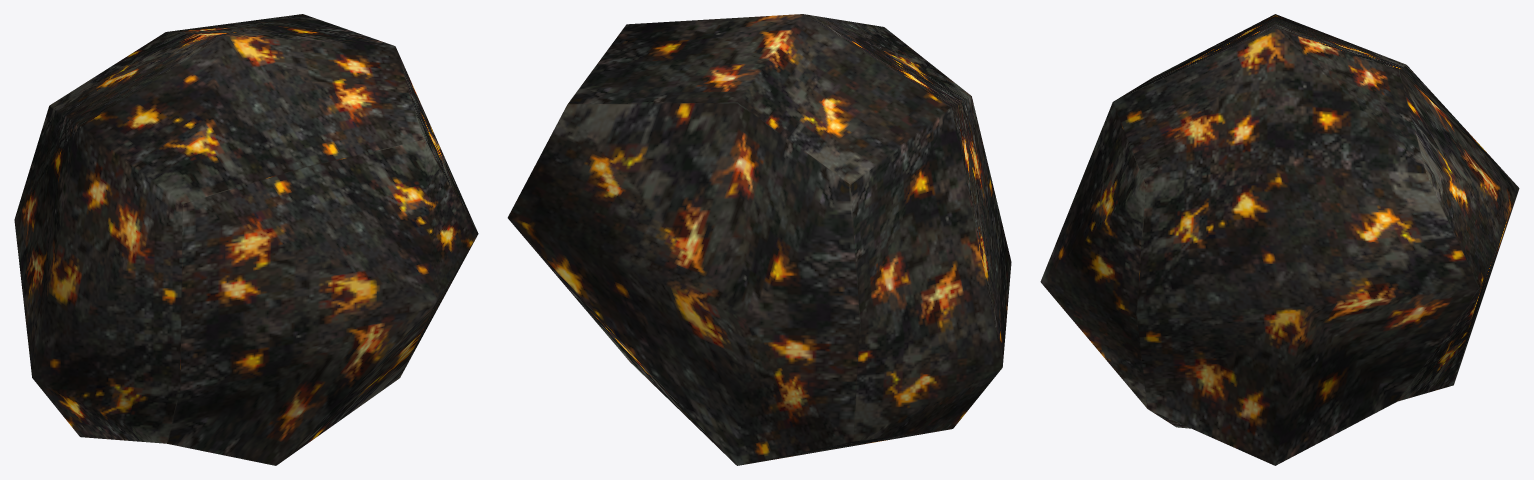
Rendered from asteroid_moltenrock_radial_s01_l2.fbx.
The picture shows the model from 3 angles, left to right: view 1: azimuth 30°, elevation 25°; view 2: azimuth 150°, elevation 25°; view 3: azimuth 270°, elevation 25°; orthographic projection. The views are drawn at different scales.
Parts seen in each view (by area): view 1: mesh_node; view 2: mesh_node; view 3: mesh_node.
Part boxes in pixels (box(x1,y1,x2,y2)): mesh_node: box(14, 14, 478, 465); mesh_node: box(507, 14, 1011, 465); mesh_node: box(1040, 14, 1519, 465).
Bounding box in the file's own units: 5.79 × 5.36 × 5.75.
Materials: 1 (1 with a texture image).
